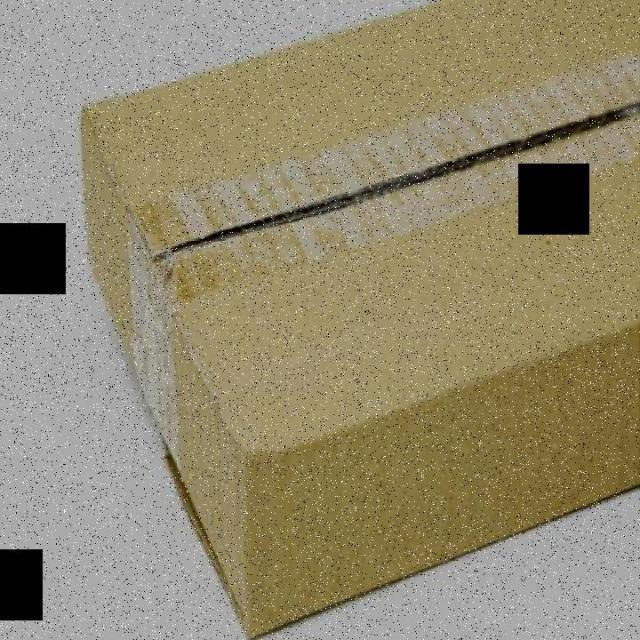box: (61, 0, 640, 638)
